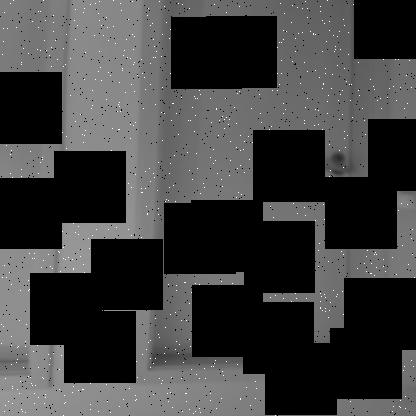Porte: (126, 0, 392, 387)
